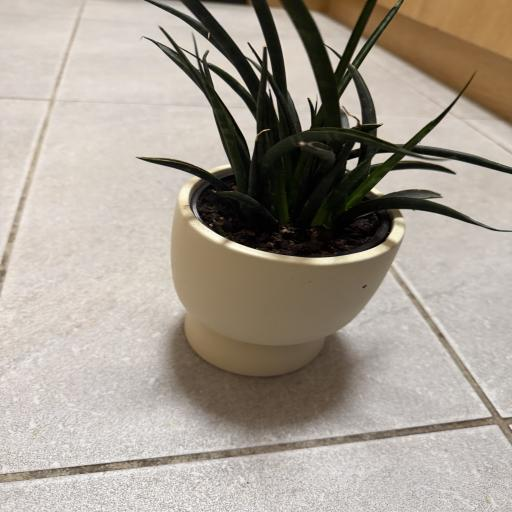Plant Pot: (158, 160, 405, 380)
